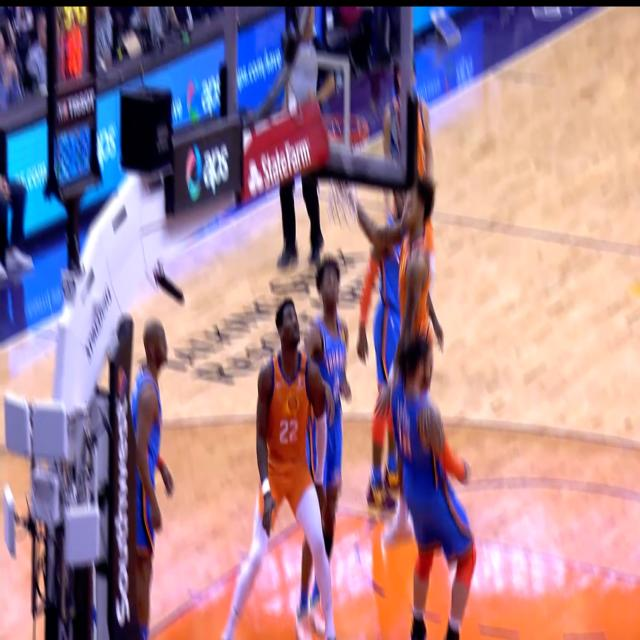Foul: (398, 188, 460, 622)
